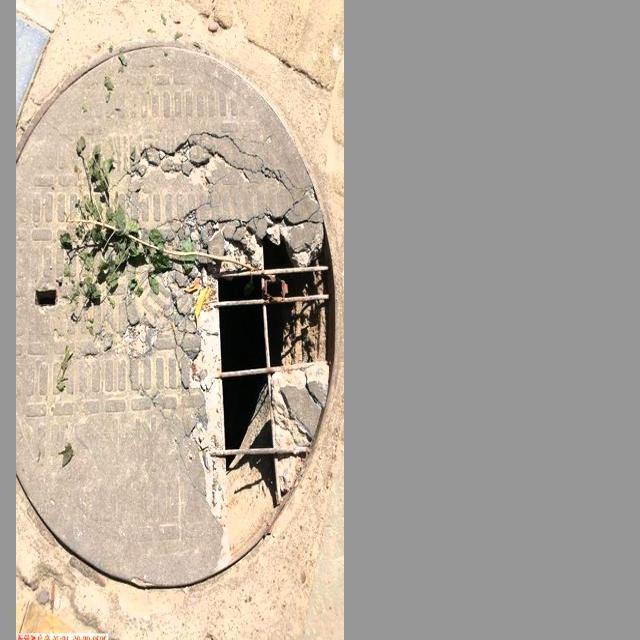broke: (24, 39, 336, 583)
